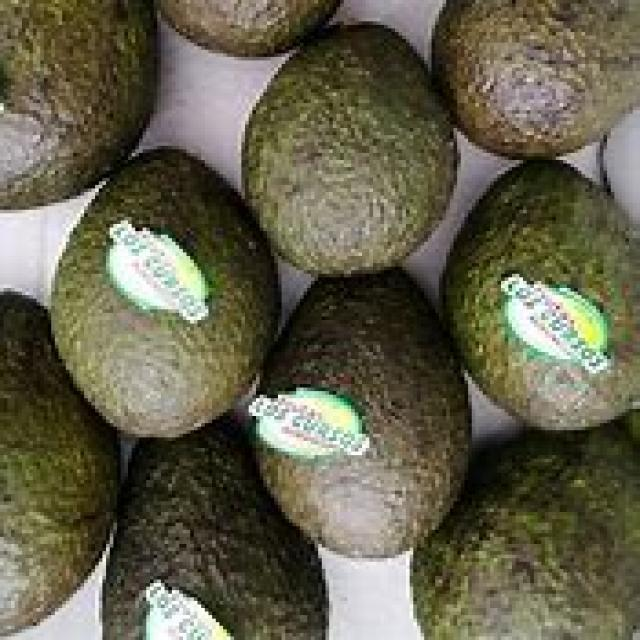avocado: (54, 143, 275, 444), (255, 265, 469, 557), (236, 12, 464, 286), (439, 151, 640, 433)
